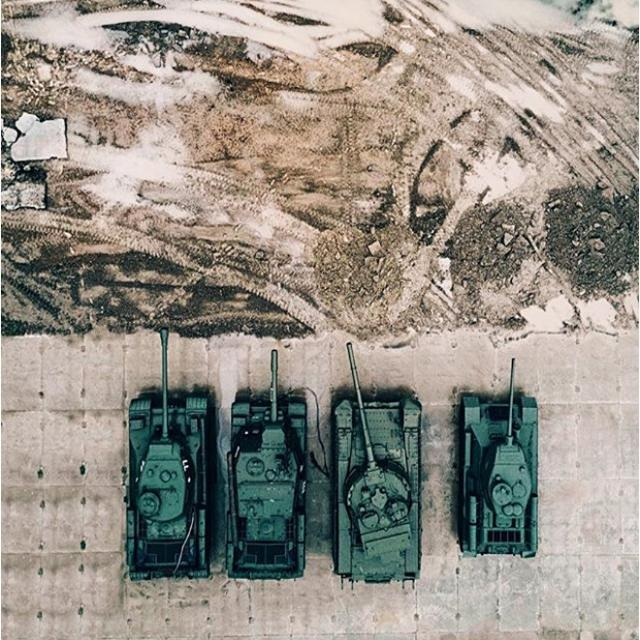Tanks: (328, 334, 426, 596), (120, 324, 216, 590), (226, 337, 317, 587), (453, 352, 544, 567)
